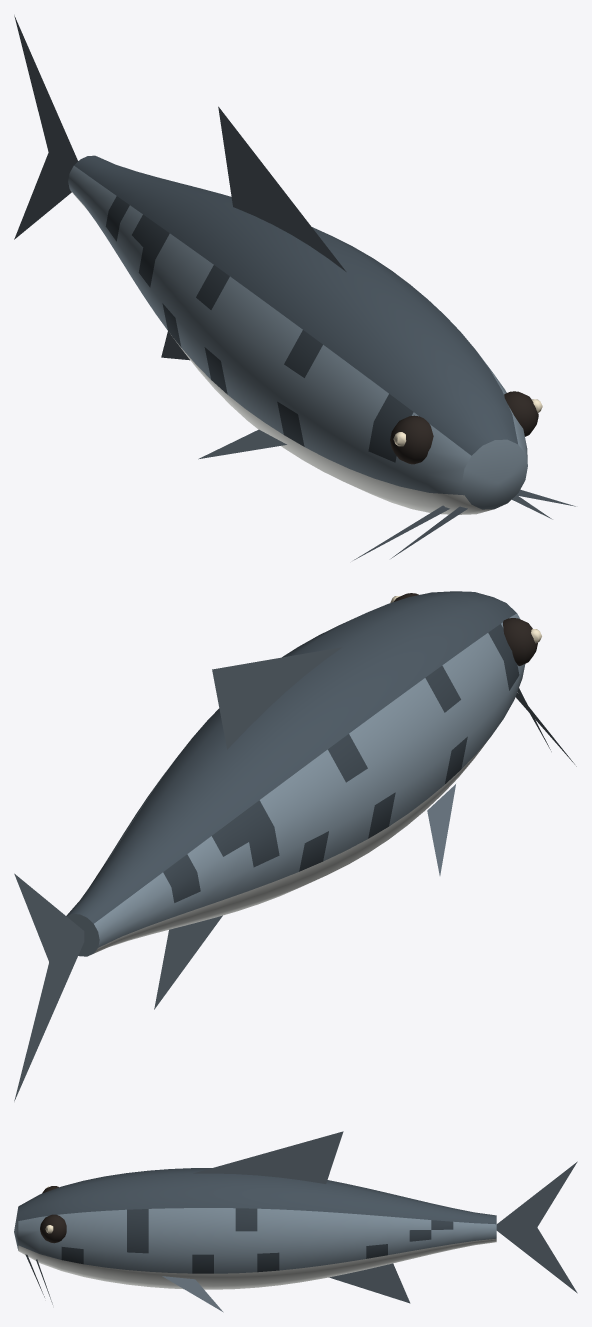
Rendered from catfish.fbx.
3 views of the same model, one above another, from view 1: azimuth 30°, elevation 25°; view 2: azimuth 150°, elevation 25°; view 3: azimuth 270°, elevation 25° (orthographic). The views are drawn at different scales.
Parts seen in each view (by area): view 1: Fish_catfish_EXP; view 2: Fish_catfish_EXP; view 3: Fish_catfish_EXP.
Boxes of the visible parts, x1=… form: Fish_catfish_EXP: x1=14, y1=15, x2=575, y2=560; Fish_catfish_EXP: x1=14, y1=591, x2=576, y2=1101; Fish_catfish_EXP: x1=14, y1=1131, x2=577, y2=1312.
Bounding box in the file's own units: 0.2084 × 0.2385 × 0.7074.
